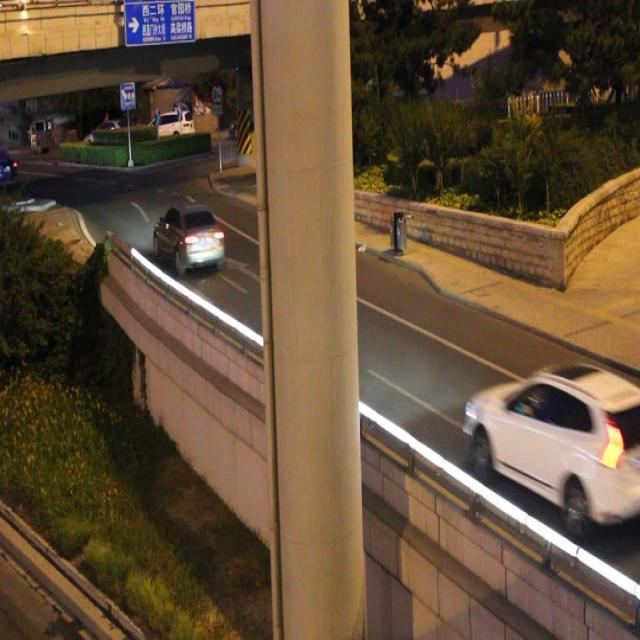car: (463, 360, 640, 535), (153, 202, 224, 272)
